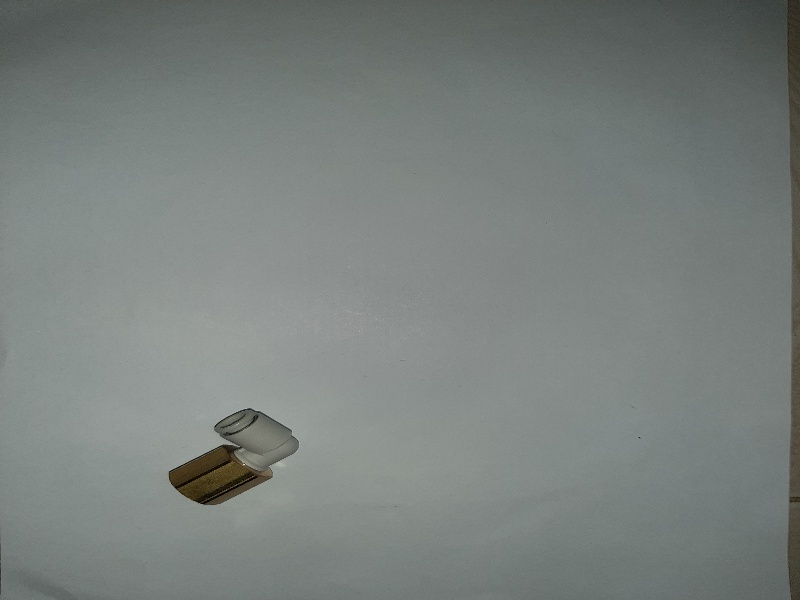Connector: (161, 401, 305, 511)
